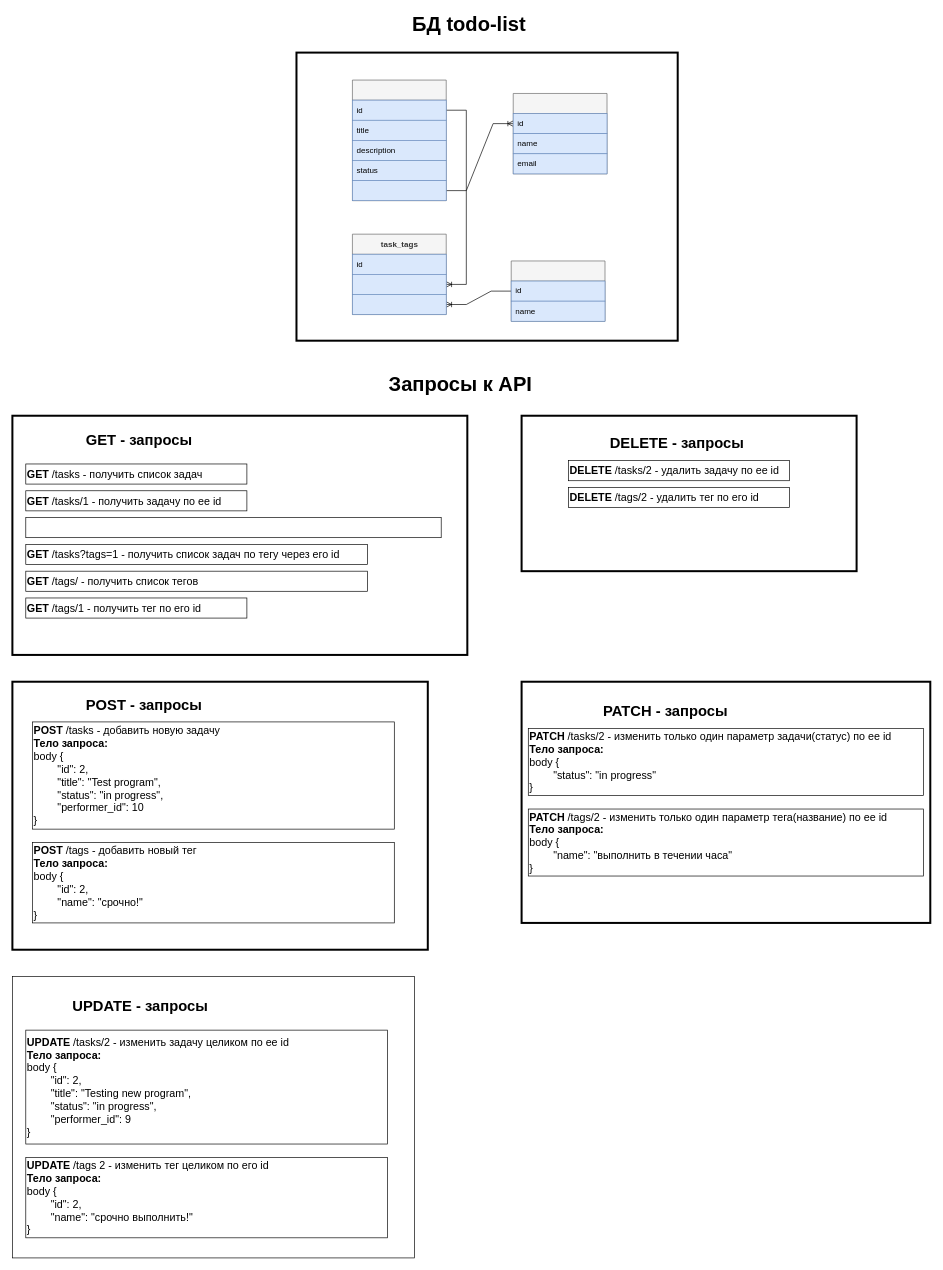
The diagram is 943 pixels wide and 1270 high, and some of its shapes have lost their labels. Each missing label, with the box of its shape:
GET /tasks?status=uncomplated - получить задачу по статусу = невыполнено: (25, 517, 441, 538)
performer_id: (352, 180, 446, 201)
tag_id: (352, 294, 446, 315)
tags: (511, 260, 605, 321)
task_id: (352, 274, 446, 294)
tasks: (352, 79, 446, 201)
user: (513, 93, 607, 174)
